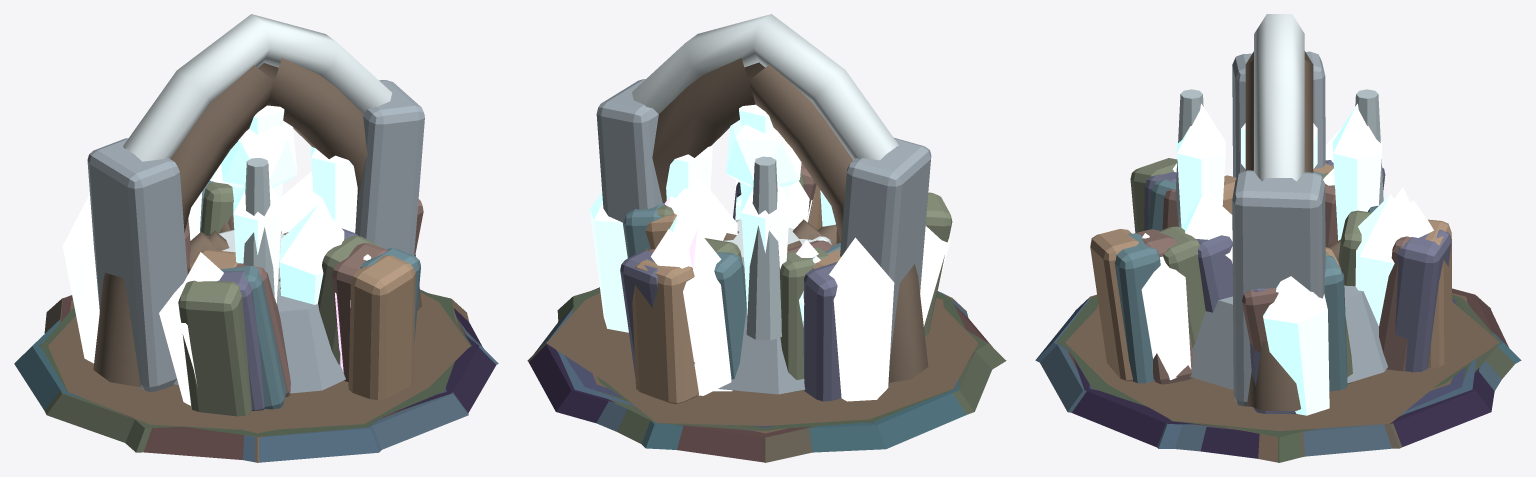
File: regional-monuments.glb
The picture shows the model from 3 angles, left to right: view 1: azimuth 30°, elevation 25°; view 2: azimuth 150°, elevation 25°; view 3: azimuth 270°, elevation 25°; orthographic projection.
Parts seen in each view (by area): view 1: STONE_GATE_PYLON_-1, STONE_GATE_SOCKET.002, TRIM_GATE_ARCH, ORGANIC_GATE_ROOT_-1, STONE_GATE_PYLON_1, STONE_RUIN_SLAB_4.001, STONE_RUIN_SLAB_3.004, ORGANIC_GATE_ROOT_1, STONE_SHRINE_DAIS, CRYSTAL_RUIN_4, STONE_SHRINE_SOCKET.008, CRYSTAL_RUIN_2.001 (+24 smaller); view 2: STONE_GATE_SOCKET.002, TRIM_GATE_ARCH, STONE_GATE_PYLON_-1, ORGANIC_GATE_ROOT_-1, CRYSTAL_RUIN_2.001, STONE_RUIN_SLAB_1.001, STONE_GATE_PYLON_1, ORGANIC_GATE_ROOT_1, STONE_RUIN_SOCKET.005, METAL_SHRINE_ARM_1, STONE_RUIN_SLAB_2, CRYSTAL_RUIN_1.002 (+27 smaller); view 3: STONE_GATE_SOCKET.002, STONE_GATE_PYLON_1, TRIM_GATE_ARCH, CRYSTAL_RUIN_0, STONE_SHRINE_DAIS, STONE_RUIN_SLAB_1, ORGANIC_GATE_ROOT_1, CRYSTAL_SHRINE_SPIRE_1, CRYSTAL_RUIN_4.001, STONE_RUIN_SLAB_4.002, CRYSTAL_SHRINE_SPIRE_2, STONE_RUIN_SLAB_4.001 (+32 smaller).
Boxes of the visible parts, bbox=[...] form: STONE_GATE_PYLON_-1: bbox=[87, 138, 187, 391]; STONE_GATE_SOCKET.002: bbox=[48, 292, 469, 430]; TRIM_GATE_ARCH: bbox=[123, 14, 391, 161]; ORGANIC_GATE_ROOT_-1: bbox=[93, 65, 274, 387]; STONE_GATE_PYLON_1: bbox=[355, 80, 424, 255]; STONE_RUIN_SLAB_4.001: bbox=[348, 255, 415, 400]; STONE_RUIN_SLAB_3.004: bbox=[178, 280, 251, 416]; ORGANIC_GATE_ROOT_1: bbox=[258, 58, 421, 310]; STONE_SHRINE_DAIS: bbox=[173, 288, 345, 393]; CRYSTAL_RUIN_4: bbox=[279, 204, 344, 304]; STONE_SHRINE_SOCKET.008: bbox=[243, 337, 498, 462]; CRYSTAL_RUIN_2.001: bbox=[62, 194, 99, 363]; STONE_GATE_SOCKET.002: bbox=[546, 293, 978, 425]; TRIM_GATE_ARCH: bbox=[632, 14, 898, 160]; STONE_GATE_PYLON_-1: bbox=[840, 137, 931, 361]; ORGANIC_GATE_ROOT_-1: bbox=[749, 64, 928, 382]; CRYSTAL_RUIN_2.001: bbox=[829, 237, 894, 401]; STONE_RUIN_SLAB_1.001: bbox=[632, 259, 698, 403]; STONE_GATE_PYLON_1: bbox=[596, 79, 662, 258]; ORGANIC_GATE_ROOT_1: bbox=[652, 58, 765, 203]; STONE_RUIN_SOCKET.005: bbox=[641, 378, 966, 452]; METAL_SHRINE_ARM_1: bbox=[746, 156, 781, 340]; STONE_RUIN_SLAB_2: bbox=[803, 262, 841, 401]; CRYSTAL_RUIN_1.002: bbox=[689, 229, 732, 391]; STONE_GATE_SOCKET.002: bbox=[1065, 302, 1499, 430]; STONE_GATE_PYLON_1: bbox=[1232, 170, 1325, 406]; TRIM_GATE_ARCH: bbox=[1254, 14, 1304, 181]; CRYSTAL_RUIN_0: bbox=[1263, 276, 1329, 415]; STONE_SHRINE_DAIS: bbox=[1190, 285, 1387, 389]; STONE_RUIN_SLAB_1: bbox=[1395, 228, 1451, 372]; ORGANIC_GATE_ROOT_1: bbox=[1245, 60, 1313, 410]; CRYSTAL_SHRINE_SPIRE_1: bbox=[1333, 103, 1381, 240]; CRYSTAL_RUIN_4.001: bbox=[1141, 256, 1191, 380]; STONE_RUIN_SLAB_4.002: bbox=[1114, 233, 1160, 383]; CRYSTAL_SHRINE_SPIRE_2: bbox=[1177, 103, 1225, 228]; STONE_RUIN_SLAB_4.001: bbox=[1090, 229, 1138, 381].
Bounding box in the file's own units: 0.8658 × 0.748 × 0.8639.
